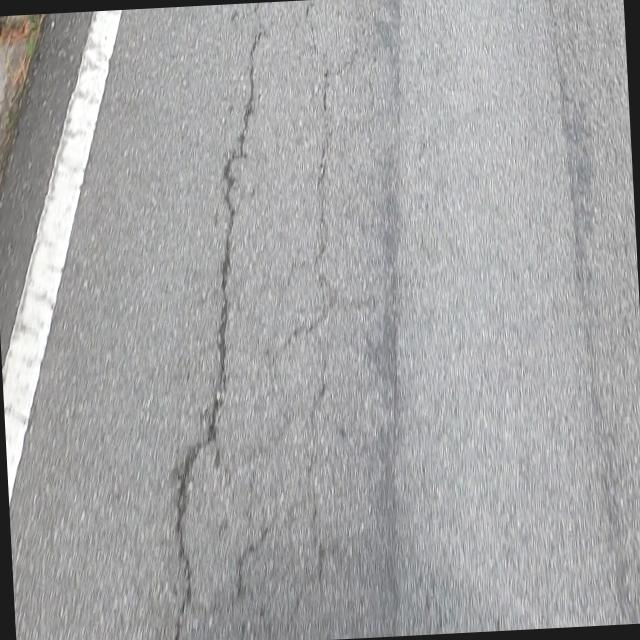Retak-Memanjang: (175, 33, 264, 640), (308, 75, 333, 589)
